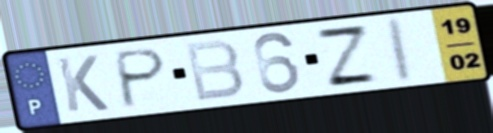6: (251, 30, 304, 96)
B: (181, 37, 248, 104)
I: (387, 15, 417, 86)
K: (53, 53, 112, 115)
P: (114, 46, 171, 111)
Z: (311, 24, 382, 89)
